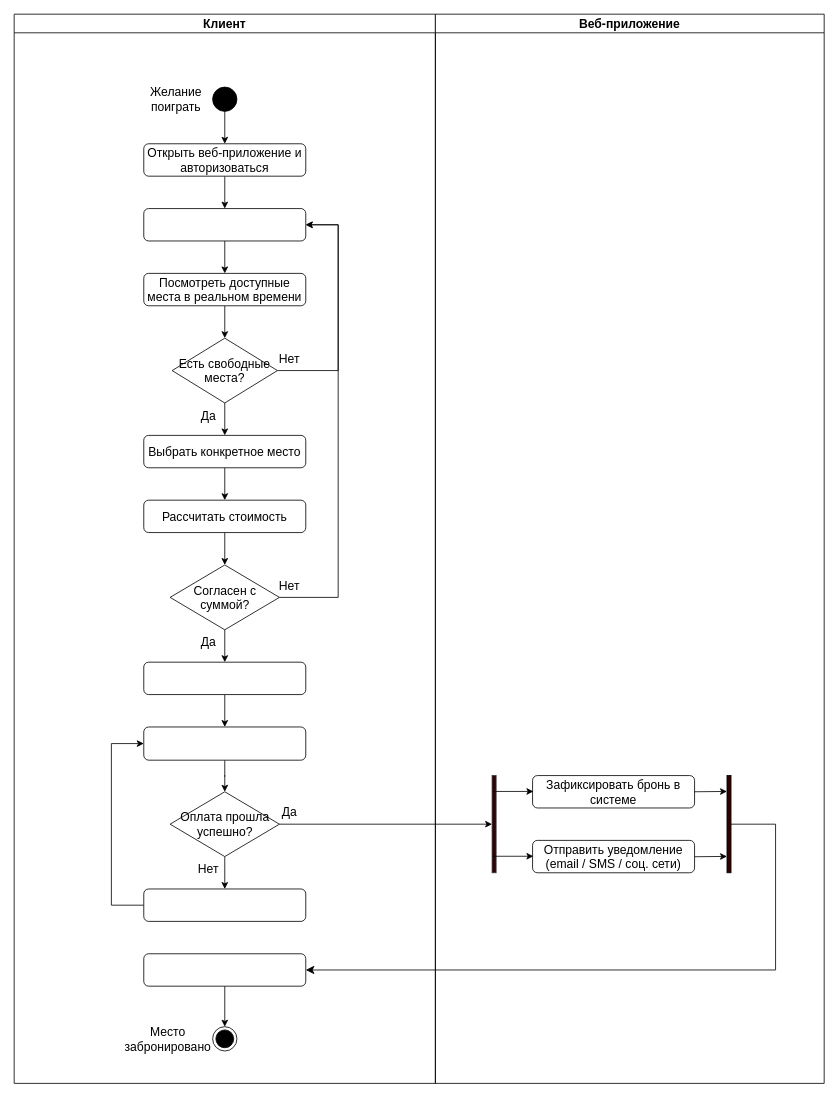
Image size: 838x1098. Some labels were removed from this diagram. Each missing label, with the centre of its shape:
"Ввести данные для оплаты (СБП / карта)" belongs at pixel 224 743.
"Выбрать дату, время, длительность и тип места" belongs at pixel 224 224.
"Перейти к оплате" belongs at pixel 224 678.
"Повторить оплату или отменить" belongs at pixel 224 904.
"Получить подтверждение брони" belongs at pixel 224 969.
